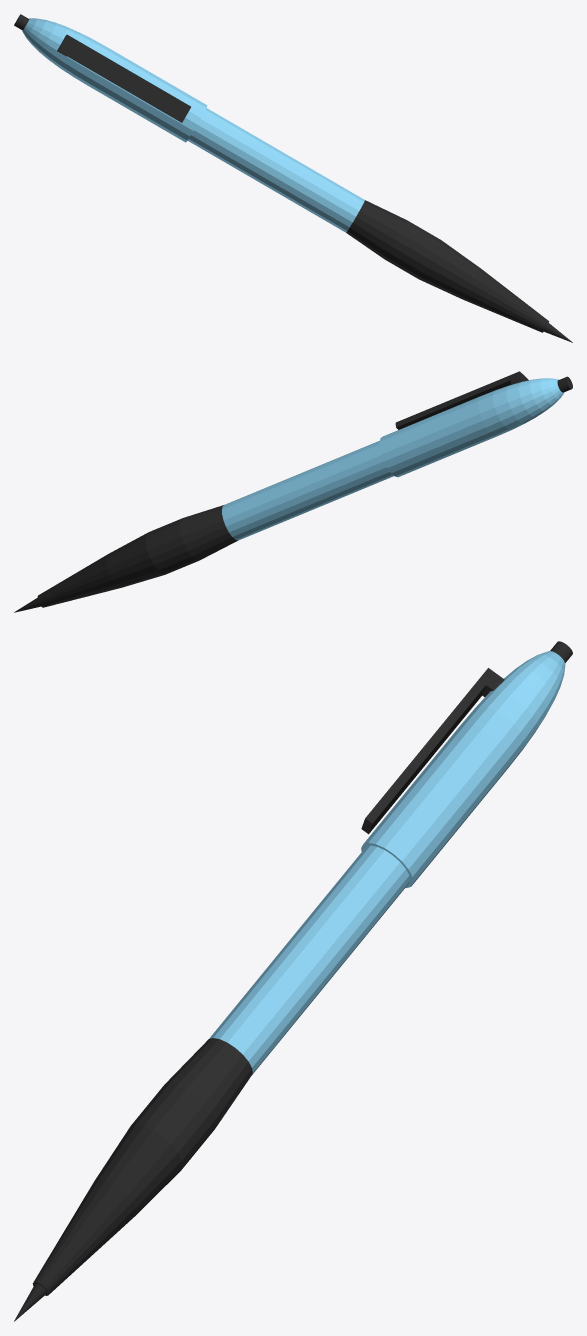
The model's file is 647e67e0-b527-477f-8ebc-628d9ec710be.glb.
3 renders of one model, top to bottom at view 1: azimuth 30°, elevation 25°; view 2: azimuth 210°, elevation 25°; view 3: azimuth 270°, elevation 25°, orthographic. The views are drawn at different scales.
Visible parts, largest first — view 1: Cylinder001, Box001; view 2: Cylinder001, Box001; view 3: Cylinder001, Box001.
Boxes of the visible parts, bbox=[...] form: Cylinder001: bbox=[14, 14, 572, 342]; Box001: bbox=[59, 35, 190, 122]; Cylinder001: bbox=[14, 376, 572, 612]; Box001: bbox=[395, 371, 519, 429]; Cylinder001: bbox=[14, 641, 572, 1321]; Box001: bbox=[361, 668, 494, 834].
Bounding box in the file's own units: 216998 × 156513 × 190718.
